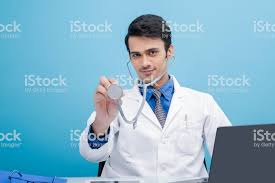Indian_Male: (130, 20, 169, 97)
